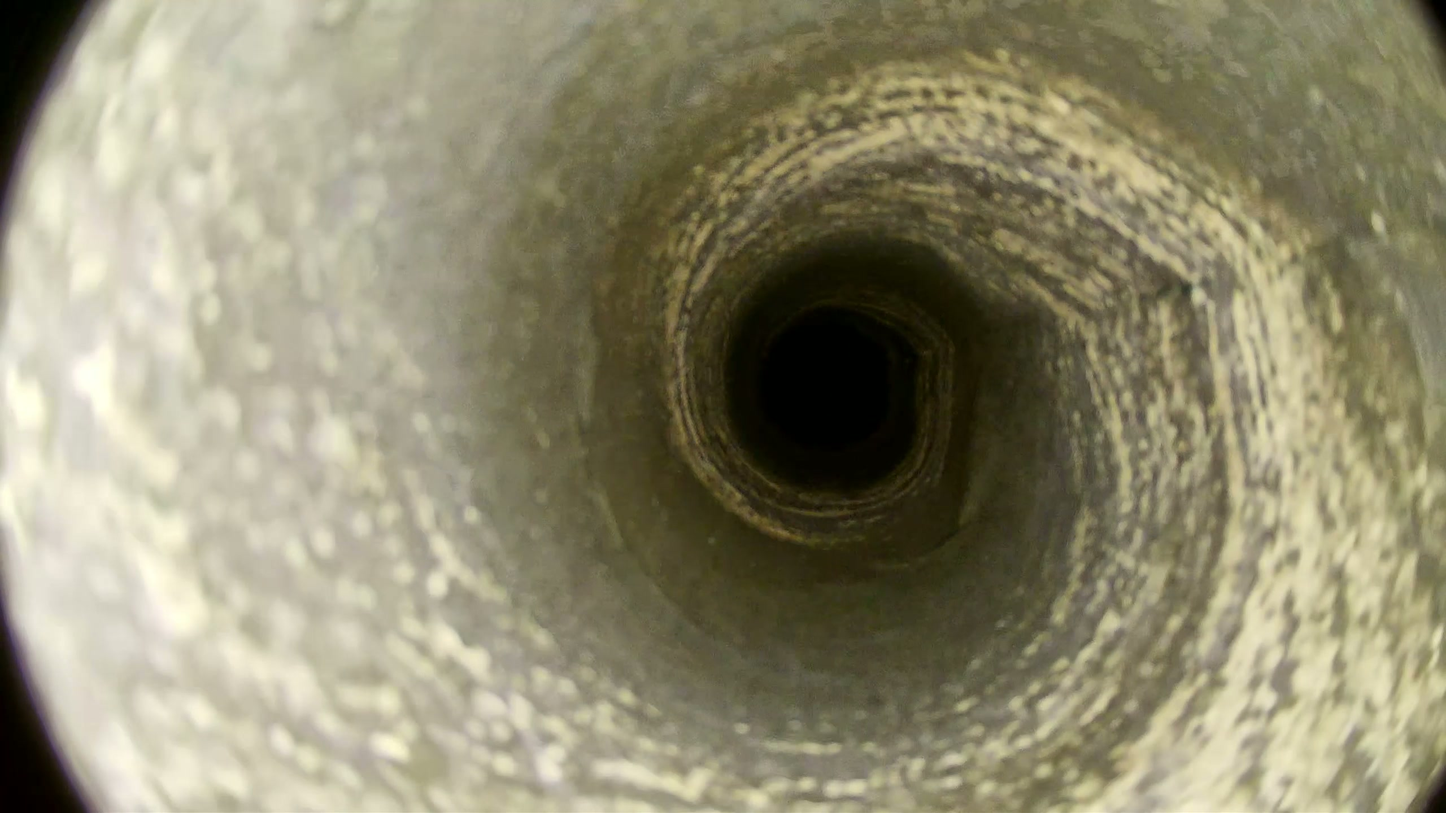hole: (764, 326, 889, 447)
